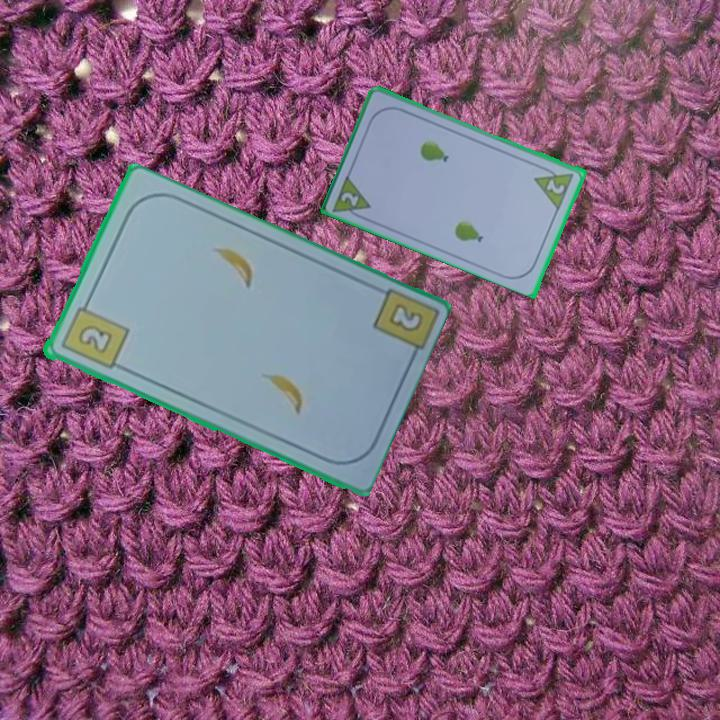2b: (56, 296, 131, 372), (384, 299, 426, 335)
2p: (543, 176, 568, 197), (337, 188, 362, 209)
